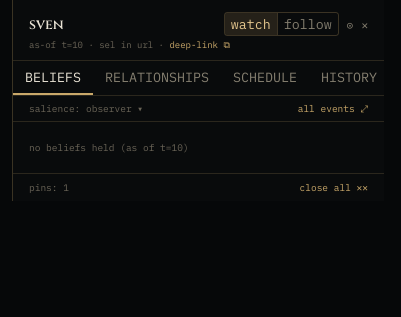
it: NpcInspector › Schedule tab (lane 41) › renders the selected NPC's before/after lanes, with the causal link visible for an active overlay
Click the tab with class "npc-inspector__tab" showing "SCHEDULE".
click(265, 78)  # box top-left (221, 61), bottom-right (309, 95)
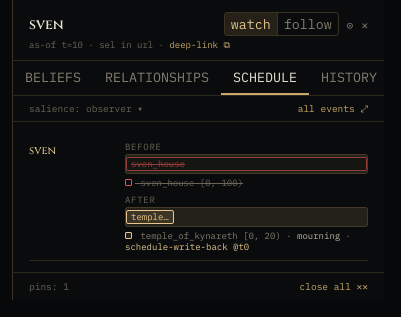
Expected: the text "temple_of_kynareth" is shown, top-left (126, 210), bottom-right (174, 224)
Expected: the text "sven_house" is shown, top-left (126, 157), bottom-right (367, 171)
Expected: the text "mourning" is shown, top-left (297, 230), bottom-right (340, 241)
